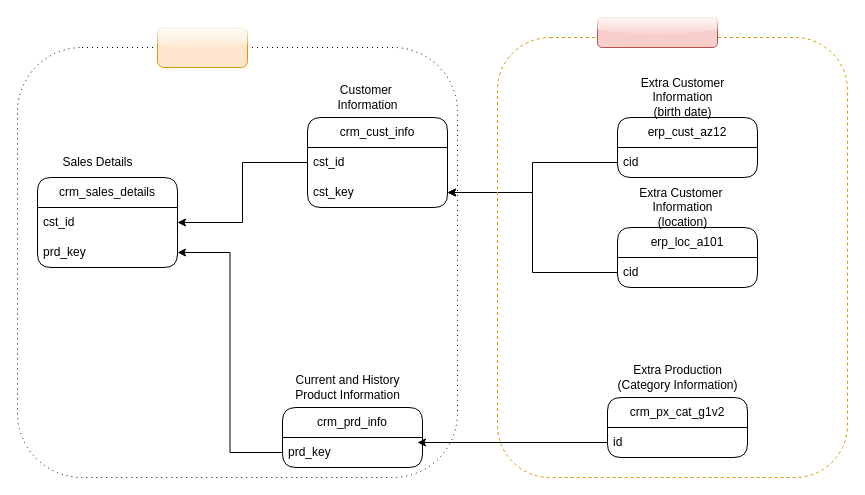
The diagram is 865 pixels wide and 495 high, and some of its shapes have lost their labels. Each missing label, with the centre of its shape:
"CRM Data Source" goes at point (202, 47).
"ERP Data Source" goes at point (657, 32).
